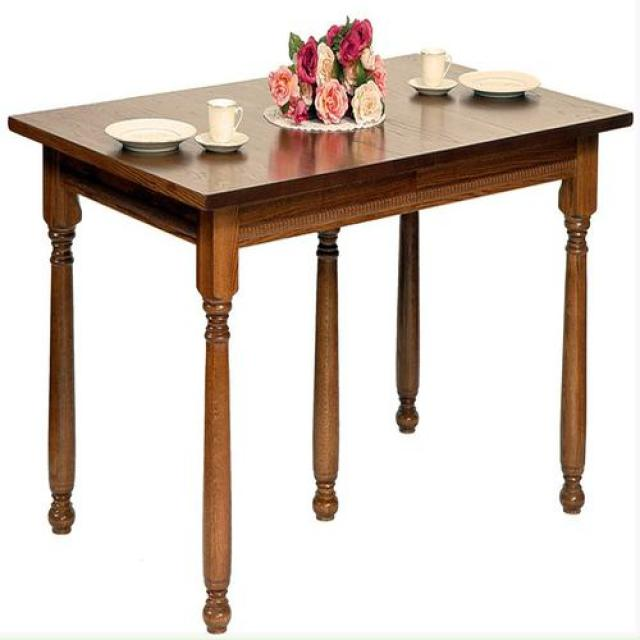table: (9, 55, 635, 635)
